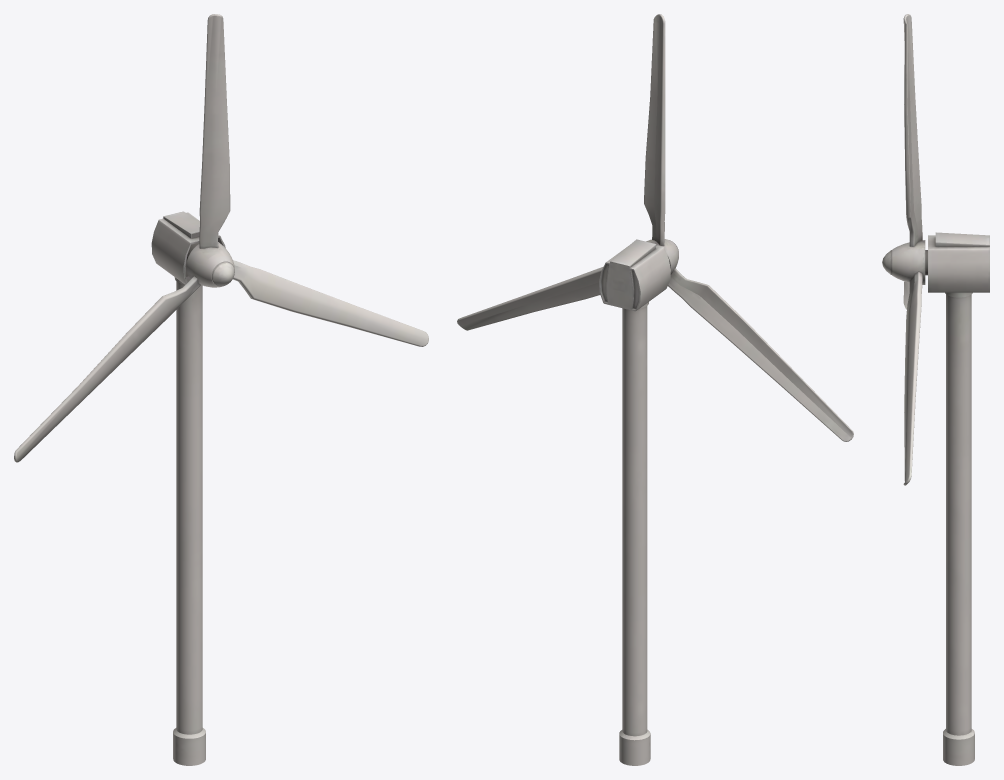
File: animated_wind_turbine_mobile.glb
The picture shows the model from 3 angles, left to right: view 1: azimuth 30°, elevation 25°; view 2: azimuth 150°, elevation 25°; view 3: azimuth 270°, elevation 25°; orthographic projection. The views are drawn at different scales.
Parts seen in each view (by area): view 1: Blades, Main Unit; view 2: Main Unit, Blades; view 3: Main Unit, Blades.
Part boxes in pixels (box(x1,y1,x2,y2)): Blades: box(14, 14, 428, 462); Main Unit: box(151, 211, 225, 765); Main Unit: box(599, 239, 670, 765); Blades: box(457, 14, 853, 441); Main Unit: box(928, 232, 989, 765); Blades: box(882, 14, 927, 485).
Size of the model in its own units: 4544 by 7985 by 1049.
1 material, 1 textured.
